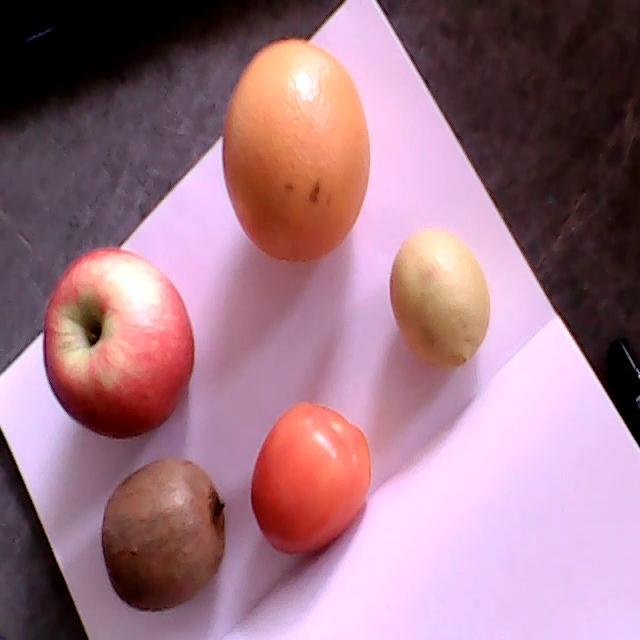apple: (42, 247, 195, 440)
kiwi: (102, 458, 226, 612)
lemon: (390, 231, 489, 369)
orange: (222, 41, 370, 263)
tomato: (250, 402, 374, 553)
